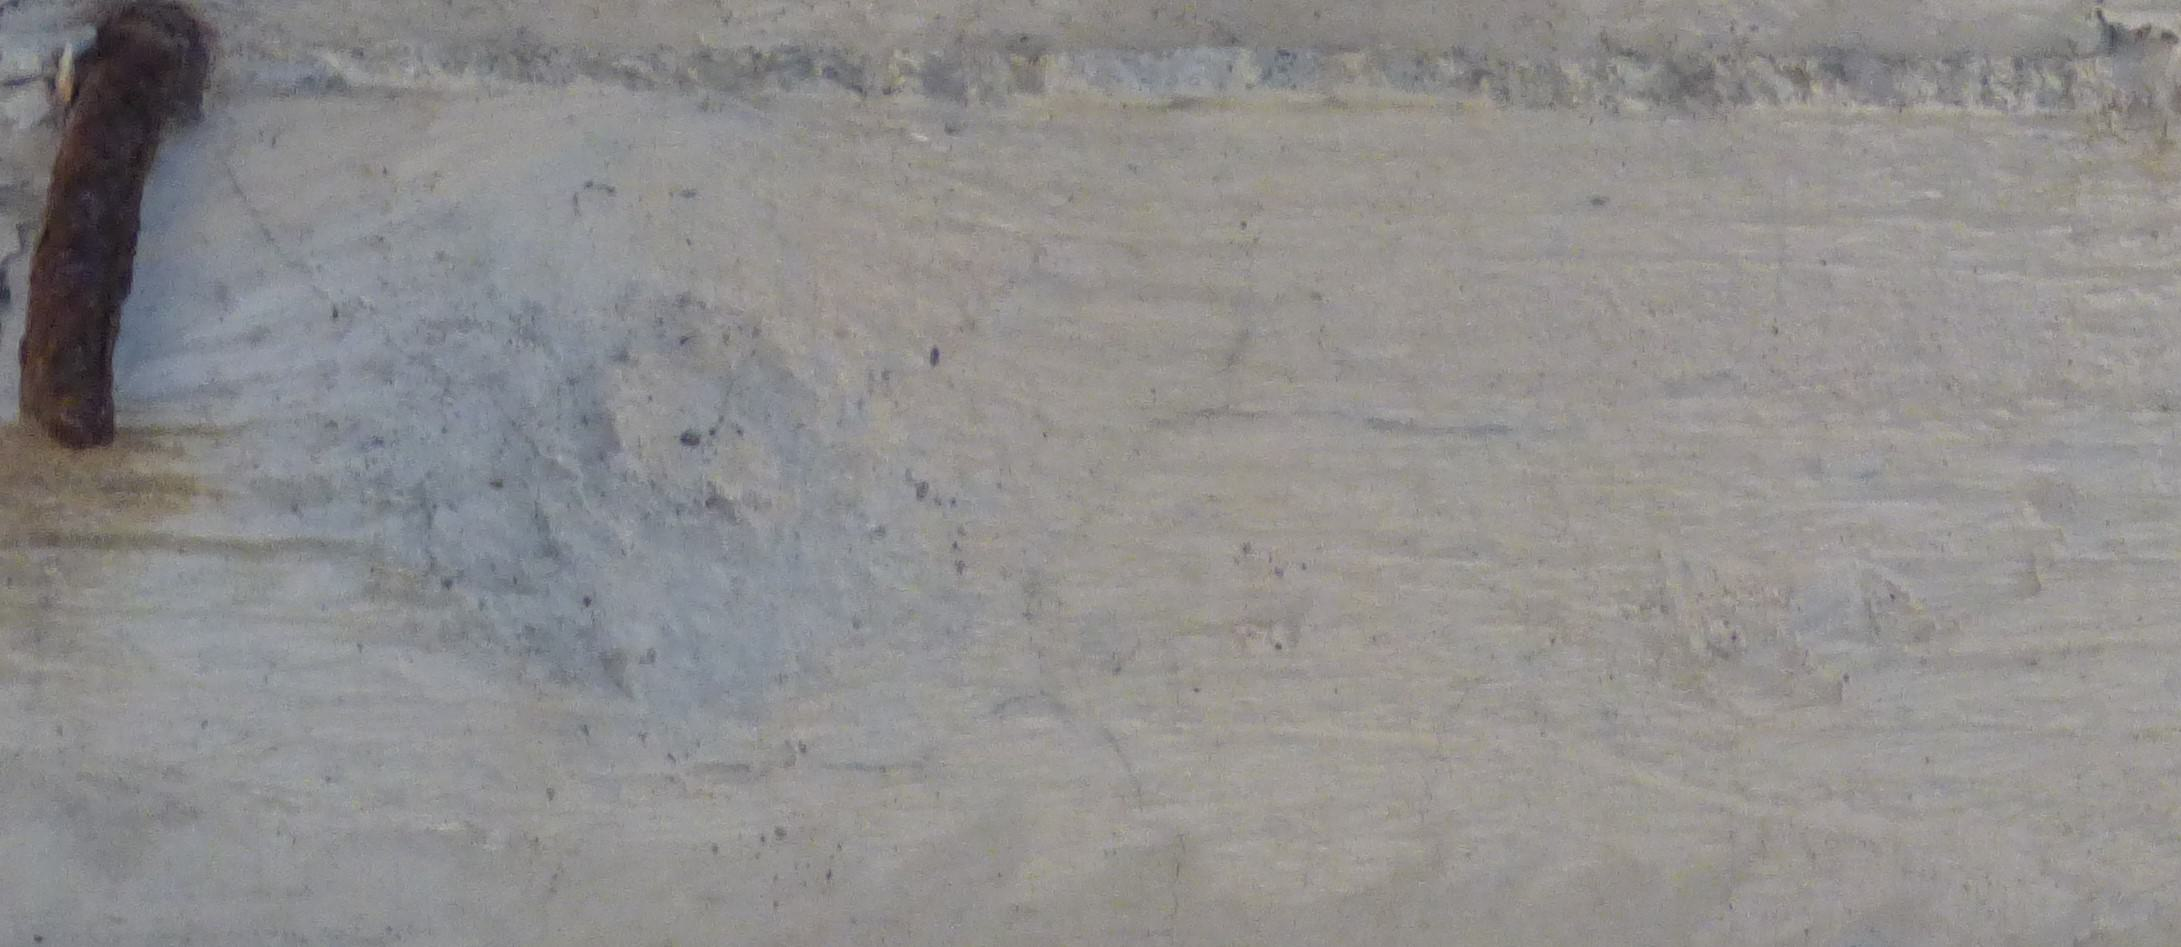Exposed reinforcement: (18, 1, 206, 452)
